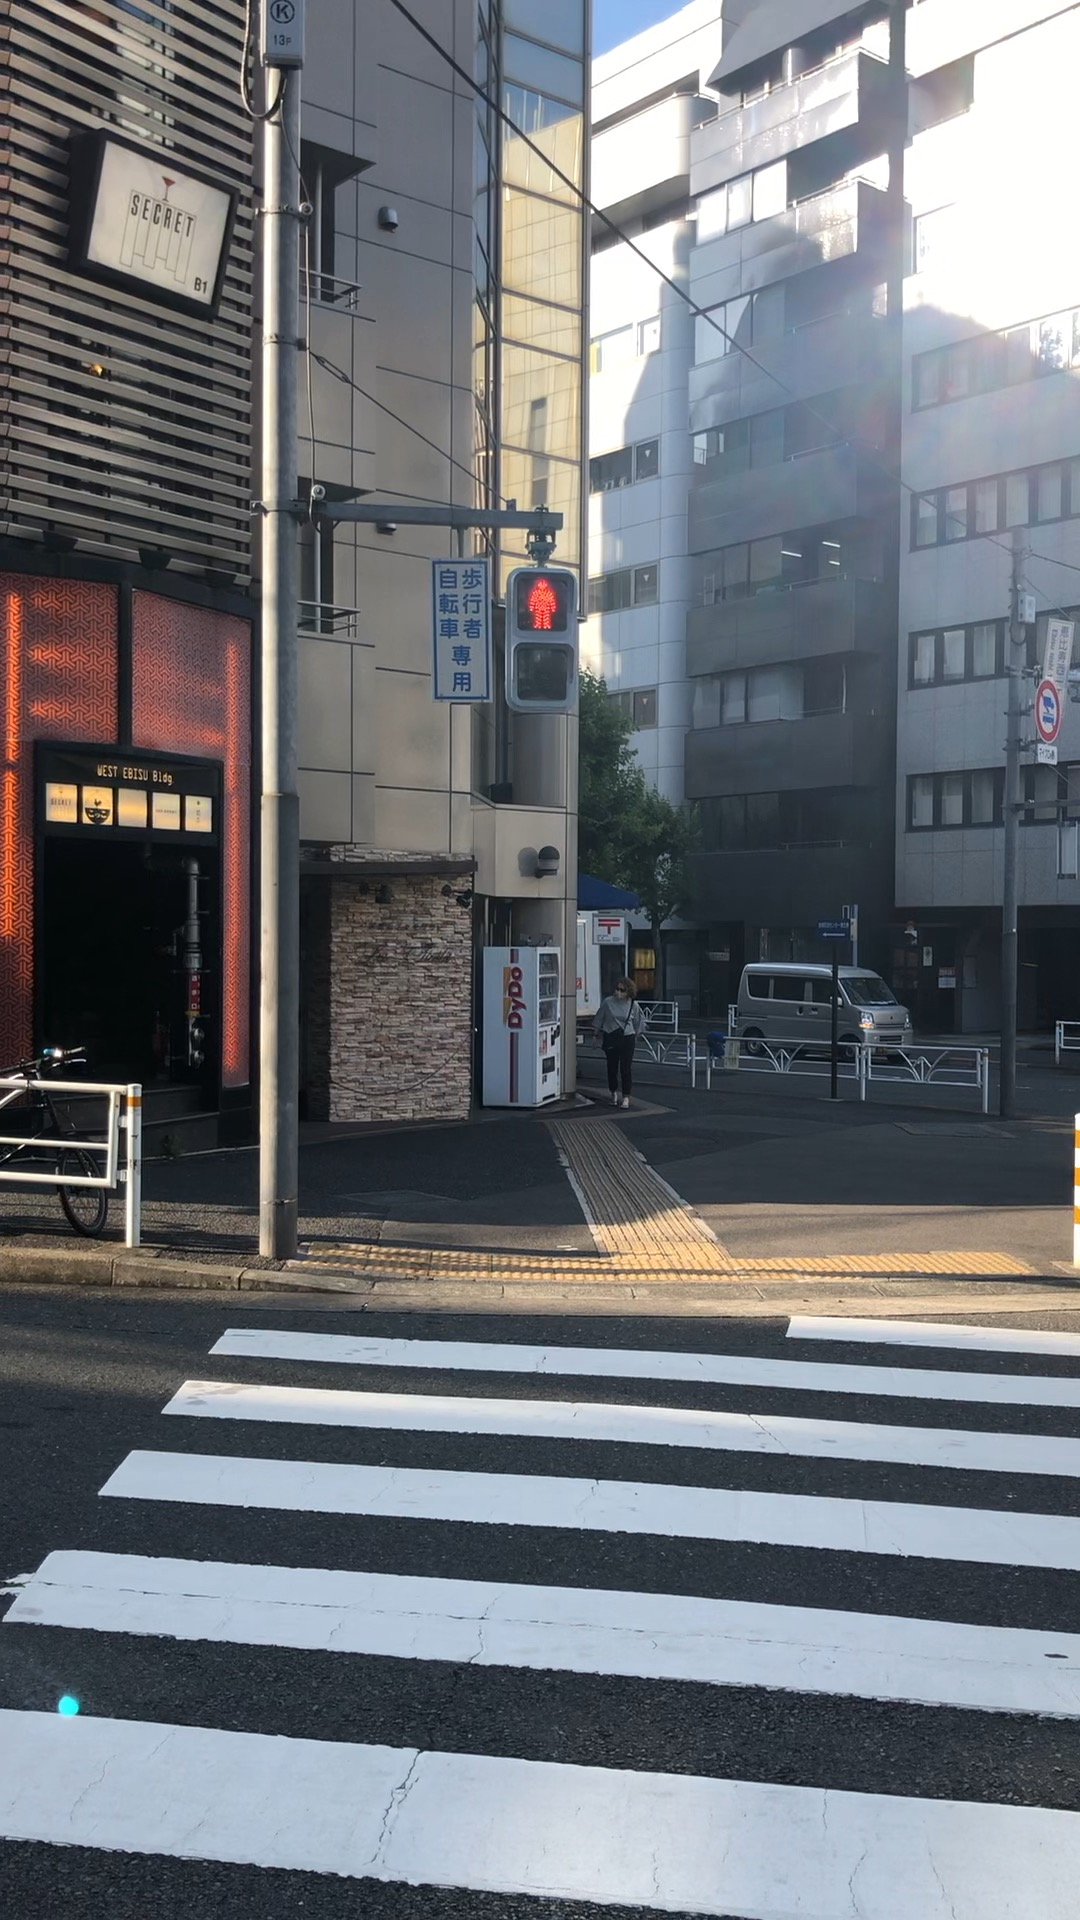red: (504, 567, 578, 711)
